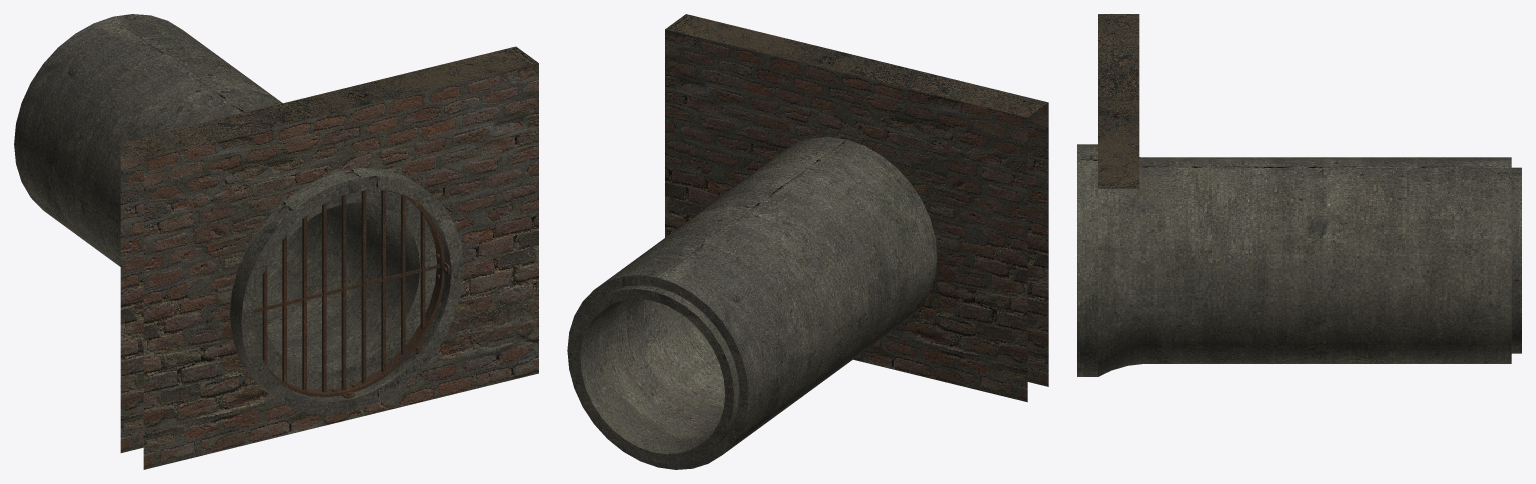
The model's file is wall_hr_1_hole_1.glb.
3 views of the same model, side by side, from view 1: azimuth 30°, elevation 25°; view 2: azimuth 150°, elevation 25°; view 3: azimuth 270°, elevation 25° (orthographic). The views are drawn at different scales.
Parts seen in each view (by area): view 1: wall_hr_1_hole_1; view 2: wall_hr_1_hole_1; view 3: wall_hr_1_hole_1.
Boxes of the visible parts, box(x1,y1,x2,y2) form: wall_hr_1_hole_1: box(14, 14, 538, 469); wall_hr_1_hole_1: box(567, 14, 1048, 469); wall_hr_1_hole_1: box(1077, 14, 1521, 376).
Size of the model in its own units: 4 by 3 by 4.3.
4 materials, 4 textured.
